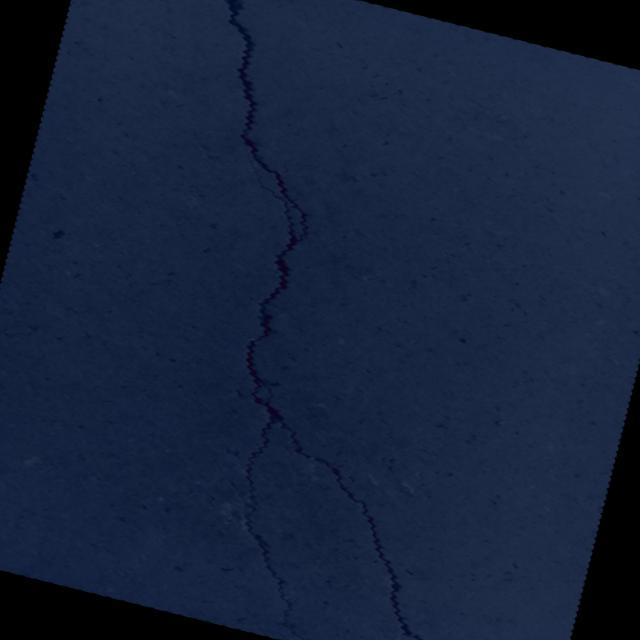crack: (69, 0, 640, 640), (124, 459, 351, 640), (288, 574, 308, 605)
